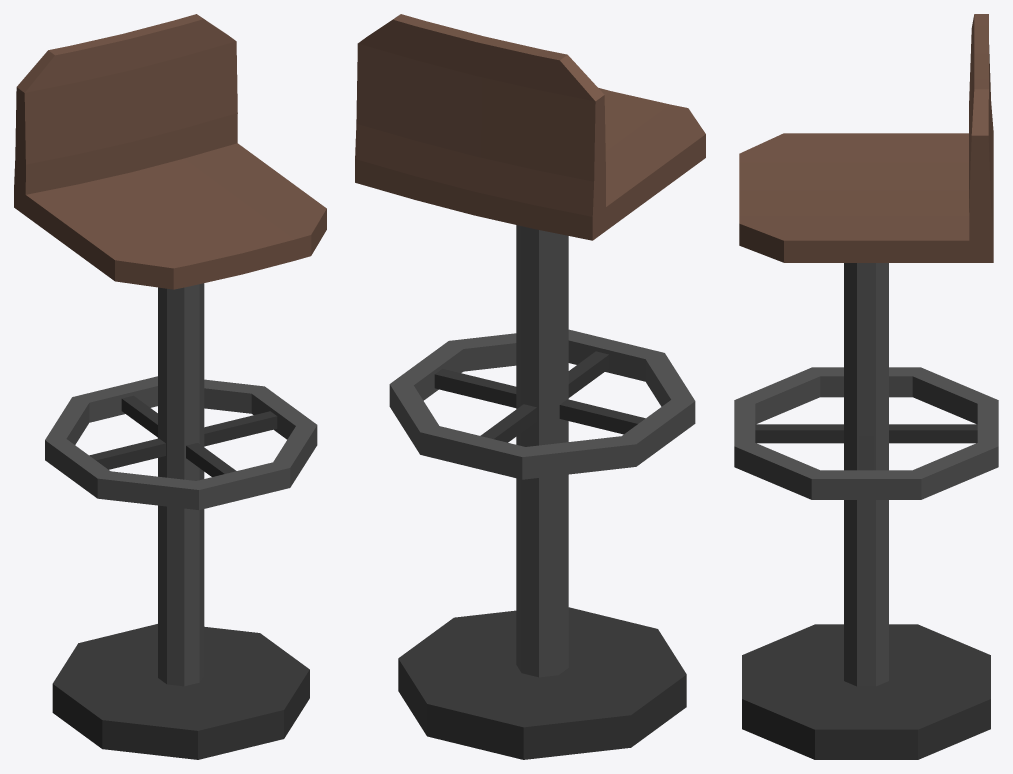
The model's file is SM_Props_BarProps_02.fbx.
The picture shows the model from 3 angles, left to right: view 1: azimuth 30°, elevation 25°; view 2: azimuth 150°, elevation 25°; view 3: azimuth 270°, elevation 25°; orthographic projection. The views are drawn at different scales.
Parts seen in each view (by area): view 1: SM_Props_BarProps_02; view 2: SM_Props_BarProps_02; view 3: SM_Props_BarProps_02.
Boxes of the visible parts, box(x1,y1,x2,y2) form: SM_Props_BarProps_02: box(14, 14, 326, 759); SM_Props_BarProps_02: box(355, 14, 705, 759); SM_Props_BarProps_02: box(734, 14, 998, 759).
Bounding box in the file's own units: 0.4585 × 1.26 × 0.4585.
